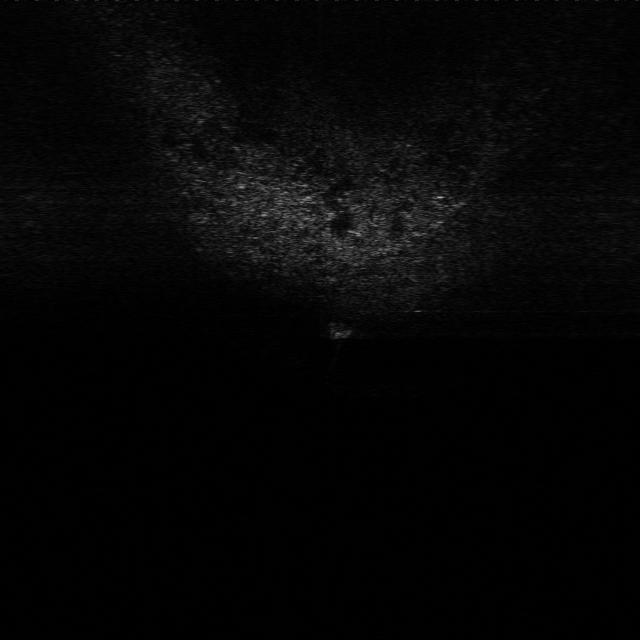cube: (323, 320, 358, 342)
